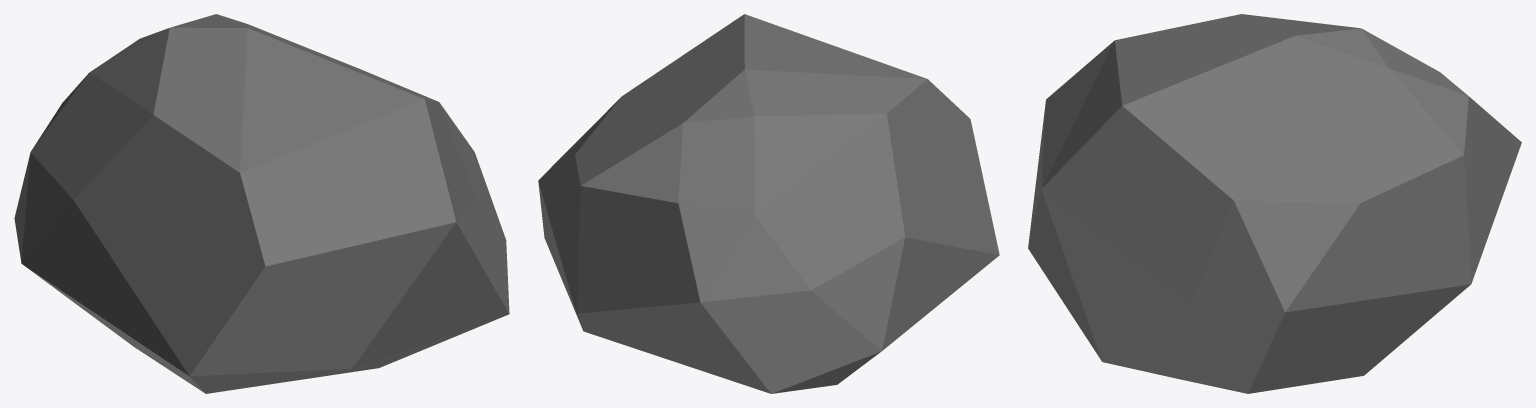
Rendered from rock6.fbx.
The picture shows the model from 3 angles, left to right: view 1: azimuth 30°, elevation 25°; view 2: azimuth 150°, elevation 25°; view 3: azimuth 270°, elevation 25°; orthographic projection. The views are drawn at different scales.
Visible parts, largest first — view 1: rock6; view 2: rock6; view 3: rock6.
Part boxes in pixels (x1,y1,x2,y2): rock6: (14,14,509,393); rock6: (538,14,999,393); rock6: (1028,14,1521,393).
Size of the model in its own units: 1.96 by 1.41 by 2.05.
